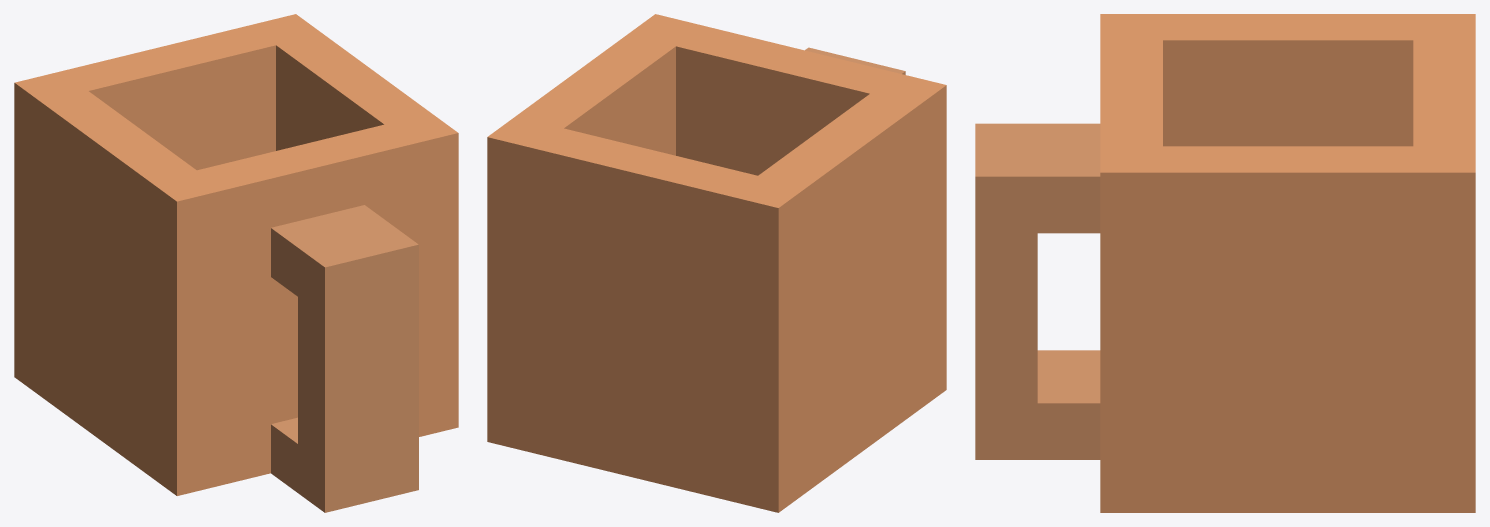
The model's file is light-brown_with_water.obj.
3 views of the same model, side by side, from view 1: azimuth 30°, elevation 25°; view 2: azimuth 150°, elevation 25°; view 3: azimuth 270°, elevation 25° (orthographic). The views are drawn at different scales.
Bounding box in the file's own units: 0.6 × 0.6 × 0.8.
1 material, 1 textured.
